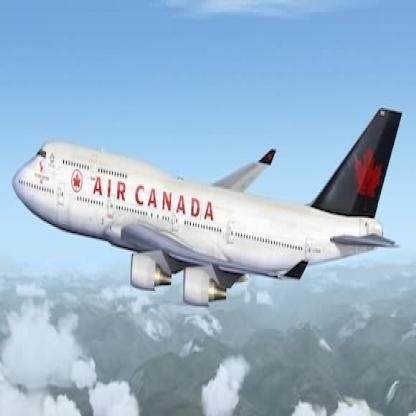CIV_Plane: (3, 101, 402, 307)
